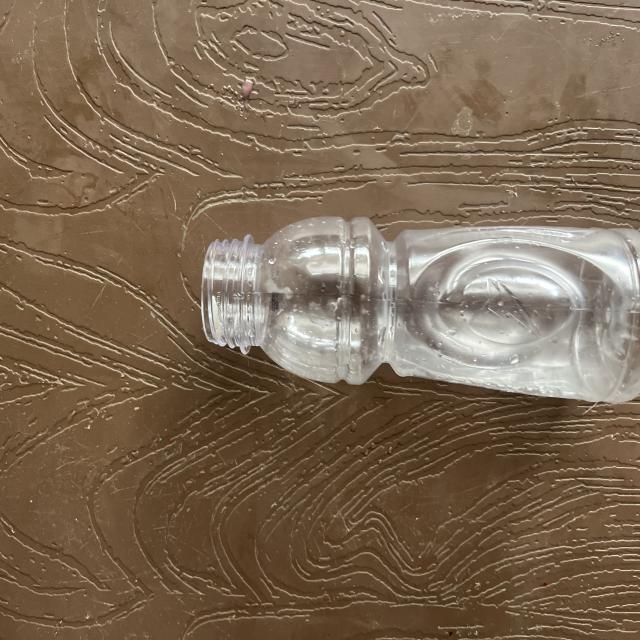PET_With_Liquid: (260, 228, 639, 399), (391, 229, 638, 398)
